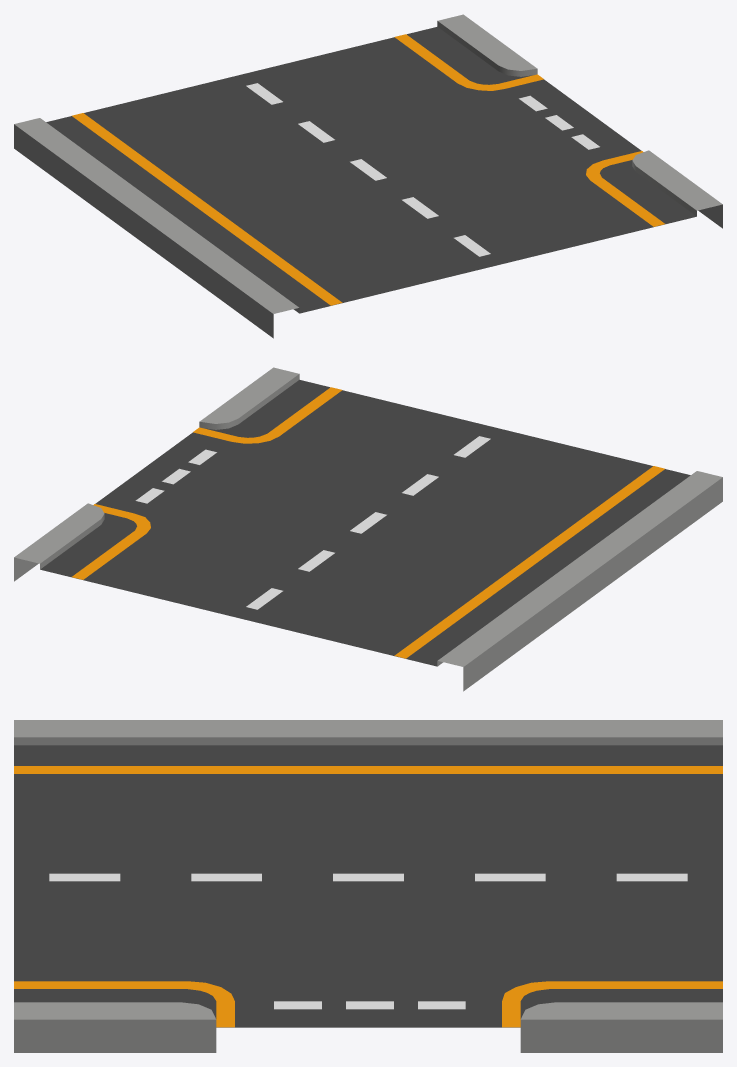
Rendered from Road_A_5.fbx.
3 renders of one model, top to bottom at view 1: azimuth 30°, elevation 25°; view 2: azimuth 150°, elevation 25°; view 3: azimuth 270°, elevation 25°, orthographic. The views are drawn at different scales.
Visible parts, largest first — view 1: Road_A_5; view 2: Road_A_5; view 3: Road_A_5.
Boxes of the visible parts, x1,y1,x2,y2 form: Road_A_5: (14, 14, 722, 338); Road_A_5: (14, 367, 722, 691); Road_A_5: (14, 720, 722, 1052).
Bounding box in the file's own units: 800 × 41.48 × 800.
